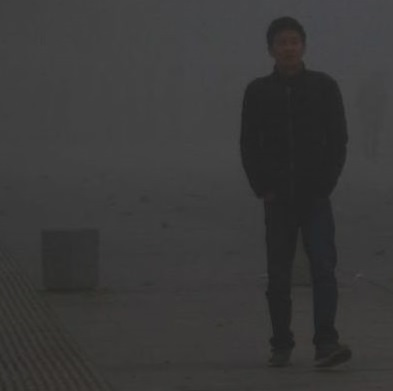person: (236, 12, 357, 372)
